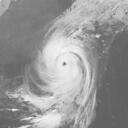cyclone: (34, 32, 97, 104)
